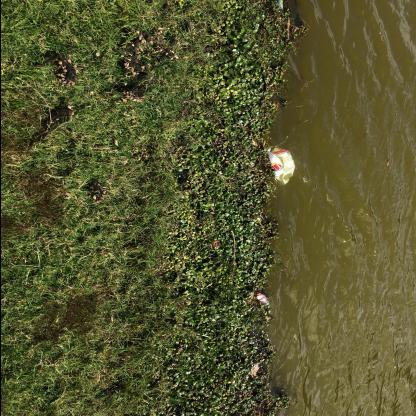plastik: (267, 148, 295, 186)
